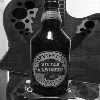beer: (27, 1, 73, 100)
